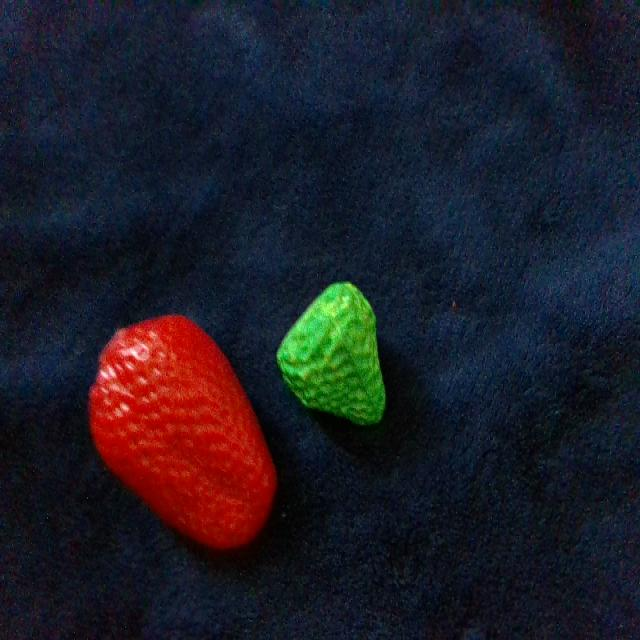grande_roja: (90, 315, 276, 548)
verde: (277, 283, 385, 424)
